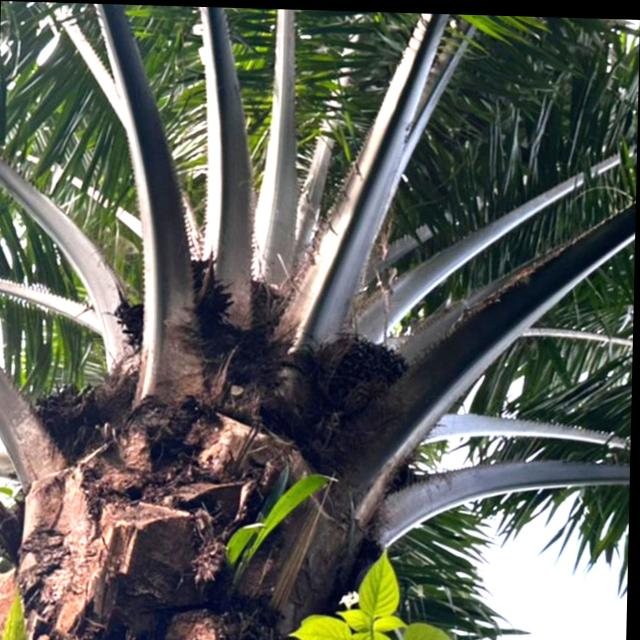unripe: (311, 326, 413, 422)
